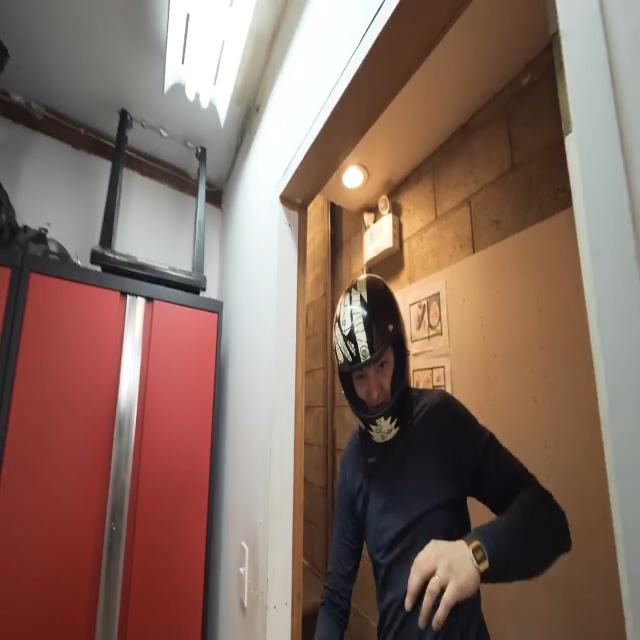Helmet_Wearer: (326, 264, 418, 448)
Person: (316, 278, 574, 640)
